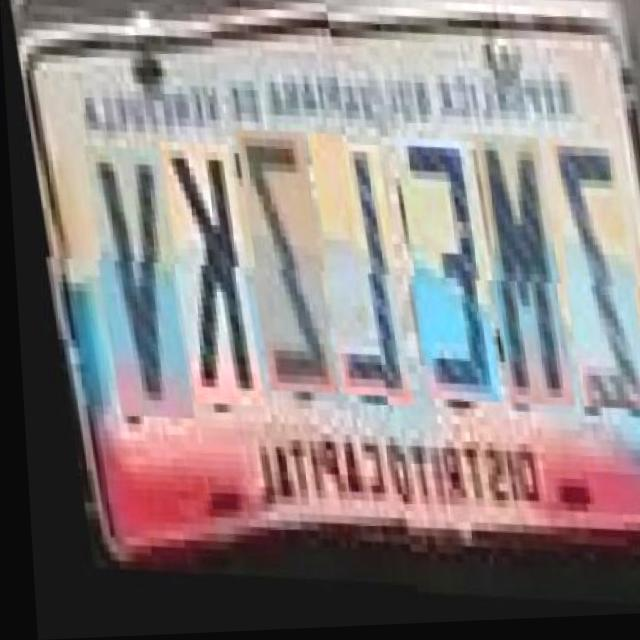e: (384, 144, 489, 415)
k: (152, 159, 251, 430)
l: (299, 149, 399, 419)
m: (464, 138, 561, 418)
v: (75, 162, 182, 442)
z: (537, 141, 639, 421), (226, 145, 326, 415)
